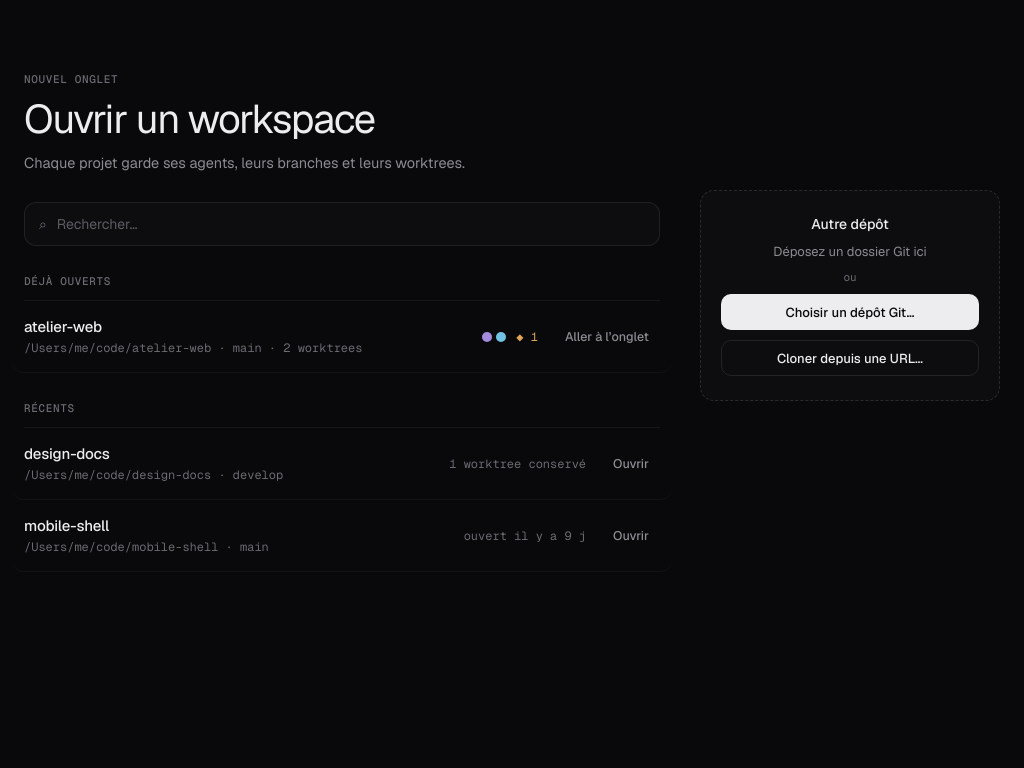
Test case: Clone dialog › cannot start without a URL and a destination
This screenshot has width=1024, height=768.
Click the button "Cloner depuis une URL…" at (850, 358), box [721,340,979,376]
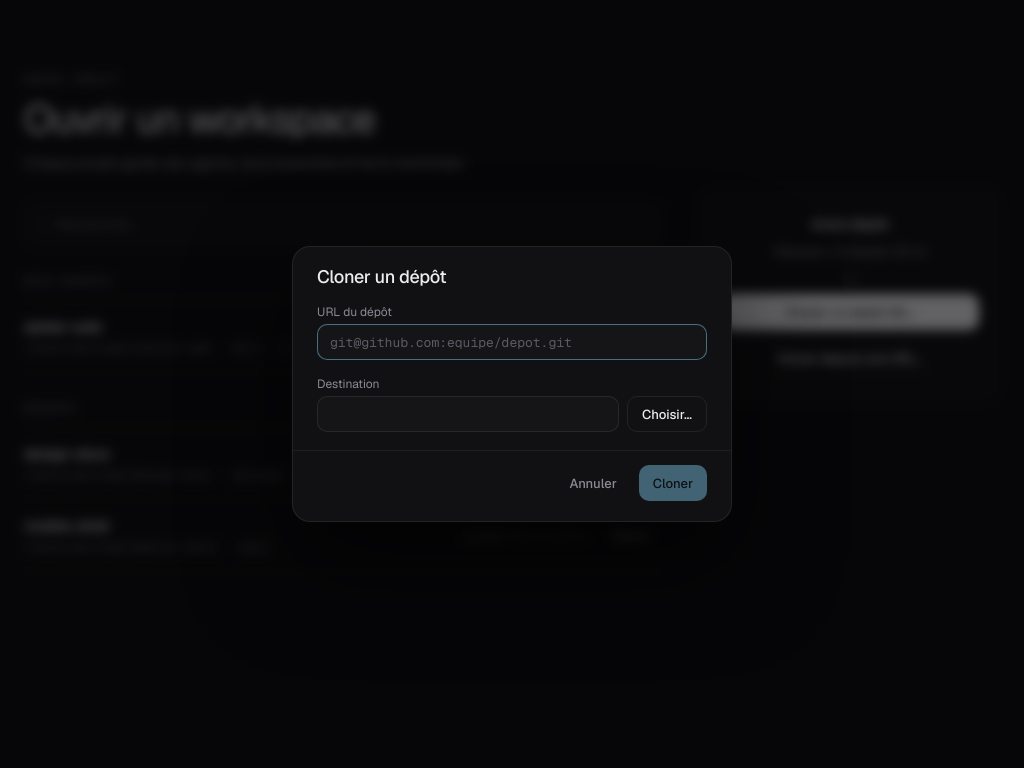
Expected: the button "Cloner" is disabled, [639,465,707,501]
